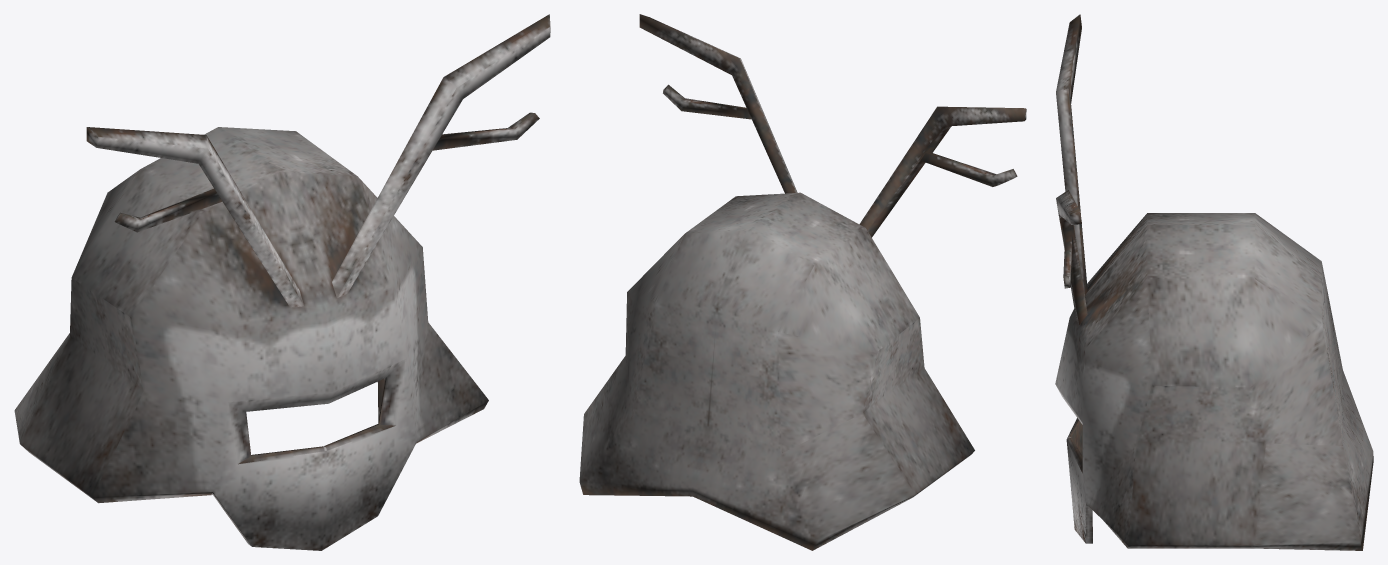
The model's file is heavy_helmet.glb.
3 views of the same model, side by side, from view 1: azimuth 30°, elevation 25°; view 2: azimuth 150°, elevation 25°; view 3: azimuth 270°, elevation 25° (orthographic). The views are drawn at different scales.
Parts seen in each view (by area): view 1: helmet green; view 2: helmet green; view 3: helmet green.
Boxes of the visible parts, bbox=[...] form: helmet green: bbox=[14, 14, 550, 550]; helmet green: bbox=[579, 14, 1026, 550]; helmet green: bbox=[1055, 14, 1373, 550].
Size of the model in its own units: 0.4067 by 0.4014 by 0.2777.
Materials: 1 (1 with a texture image).
